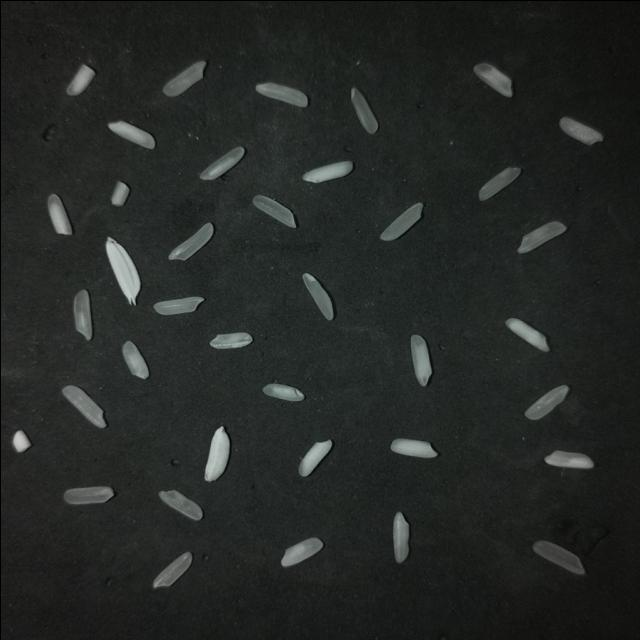chalky: (505, 317, 549, 350), (107, 120, 154, 148), (255, 81, 307, 106), (473, 62, 511, 96), (298, 439, 331, 476), (559, 116, 602, 144), (281, 537, 322, 566), (302, 161, 352, 182), (411, 334, 431, 385), (122, 340, 148, 378), (47, 193, 71, 234), (390, 437, 437, 457), (66, 64, 95, 95), (544, 450, 593, 468), (392, 511, 408, 562), (262, 382, 303, 400), (209, 332, 251, 348), (111, 180, 129, 205), (12, 429, 30, 451)
foreign: (105, 236, 140, 303), (204, 426, 228, 480)
whole: (62, 384, 105, 427), (532, 540, 584, 573), (168, 222, 213, 259), (379, 202, 422, 240), (517, 221, 566, 252), (162, 61, 205, 96), (524, 384, 568, 418), (302, 272, 333, 319), (199, 146, 243, 179), (478, 166, 520, 200), (252, 194, 295, 227), (152, 551, 191, 587), (158, 489, 201, 519), (351, 87, 377, 133), (73, 289, 91, 339), (154, 296, 203, 314), (63, 486, 113, 503)
